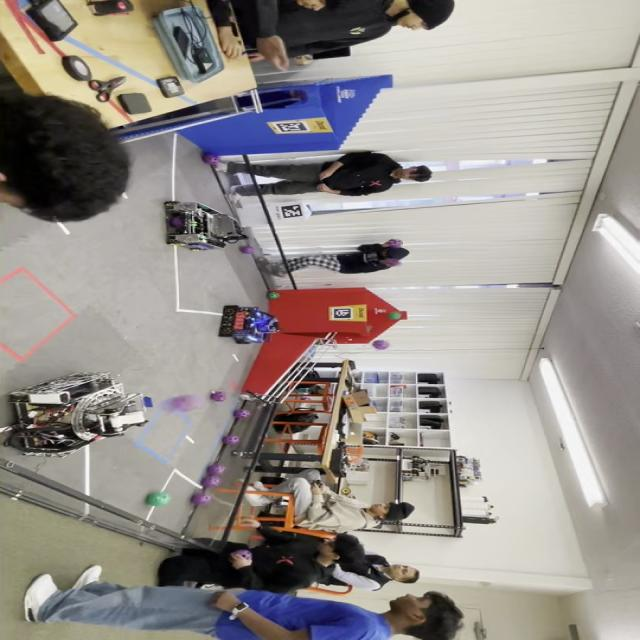artifact_green: (146, 492, 170, 507), (233, 409, 251, 419), (232, 550, 252, 559), (387, 312, 401, 320), (267, 292, 280, 300), (341, 488, 351, 495), (300, 396, 311, 401), (189, 221, 197, 227), (394, 442, 405, 446)
artifact_purple: (162, 395, 205, 412), (191, 493, 210, 505), (202, 476, 221, 487), (207, 464, 226, 475), (202, 153, 219, 165), (232, 550, 252, 559), (210, 391, 226, 401), (170, 217, 184, 228), (222, 436, 239, 445), (373, 340, 389, 349), (234, 409, 250, 418), (240, 246, 255, 254), (386, 240, 402, 247), (387, 259, 401, 266), (300, 396, 311, 400)
